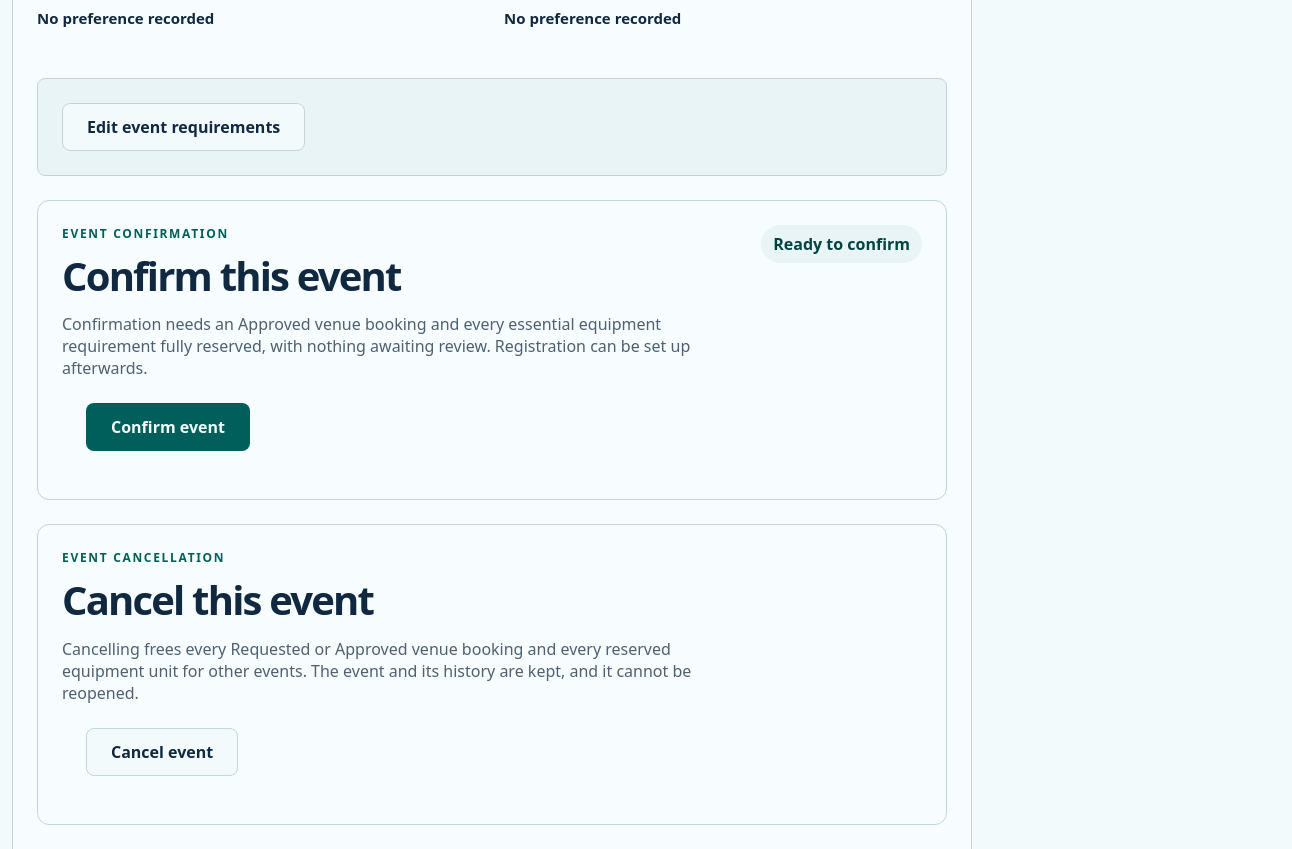
Scenario: [TC-SPL-85-24] confirms only after the second step and shows who confirmed it
(page scrolled)
Expected: the text "Ready to confirm" is shown, x1=761 y1=225 x2=922 y2=263
Click the button "Confirm event" at (168, 427), box x1=86 y1=403 x2=250 y2=451
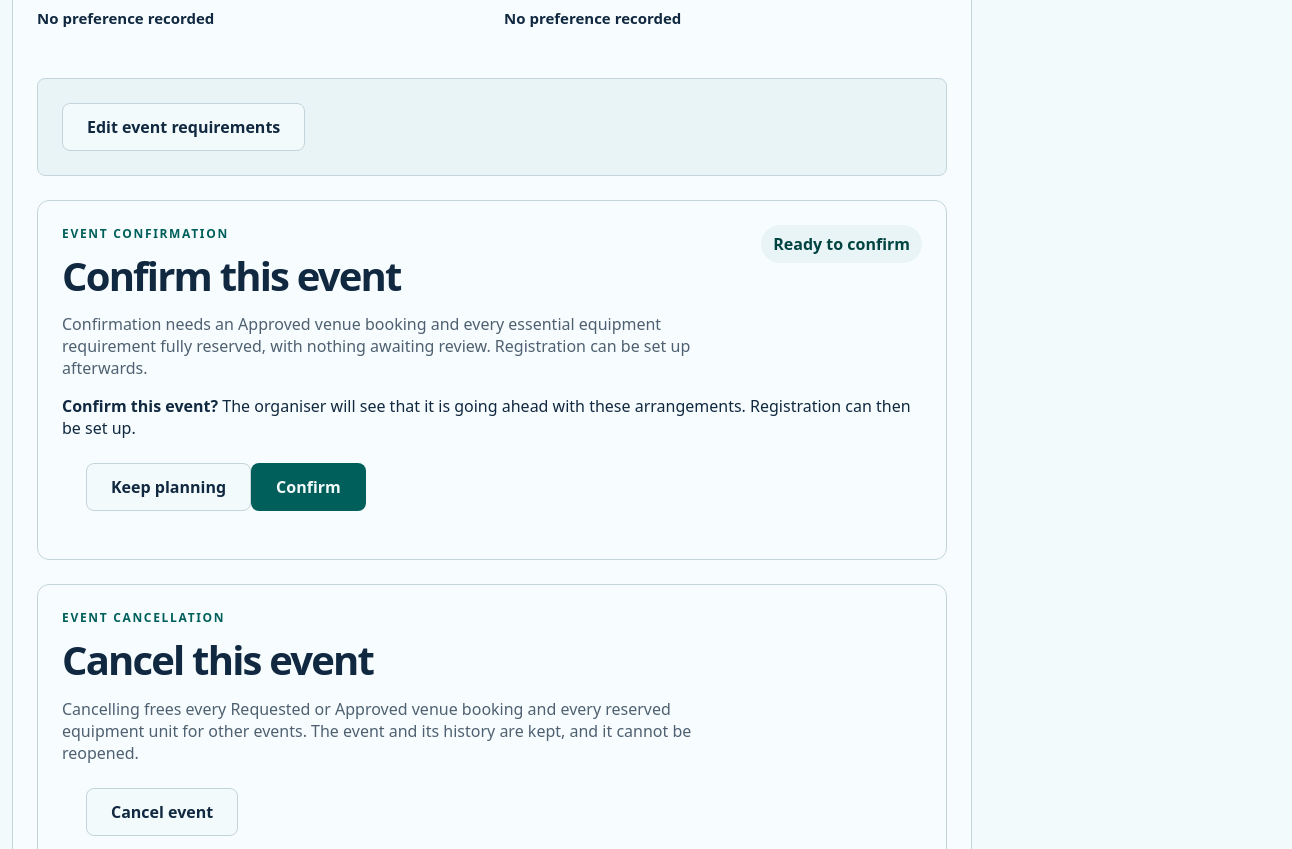
Click the button "Keep planning" at (168, 487), box x1=86 y1=463 x2=251 y2=511
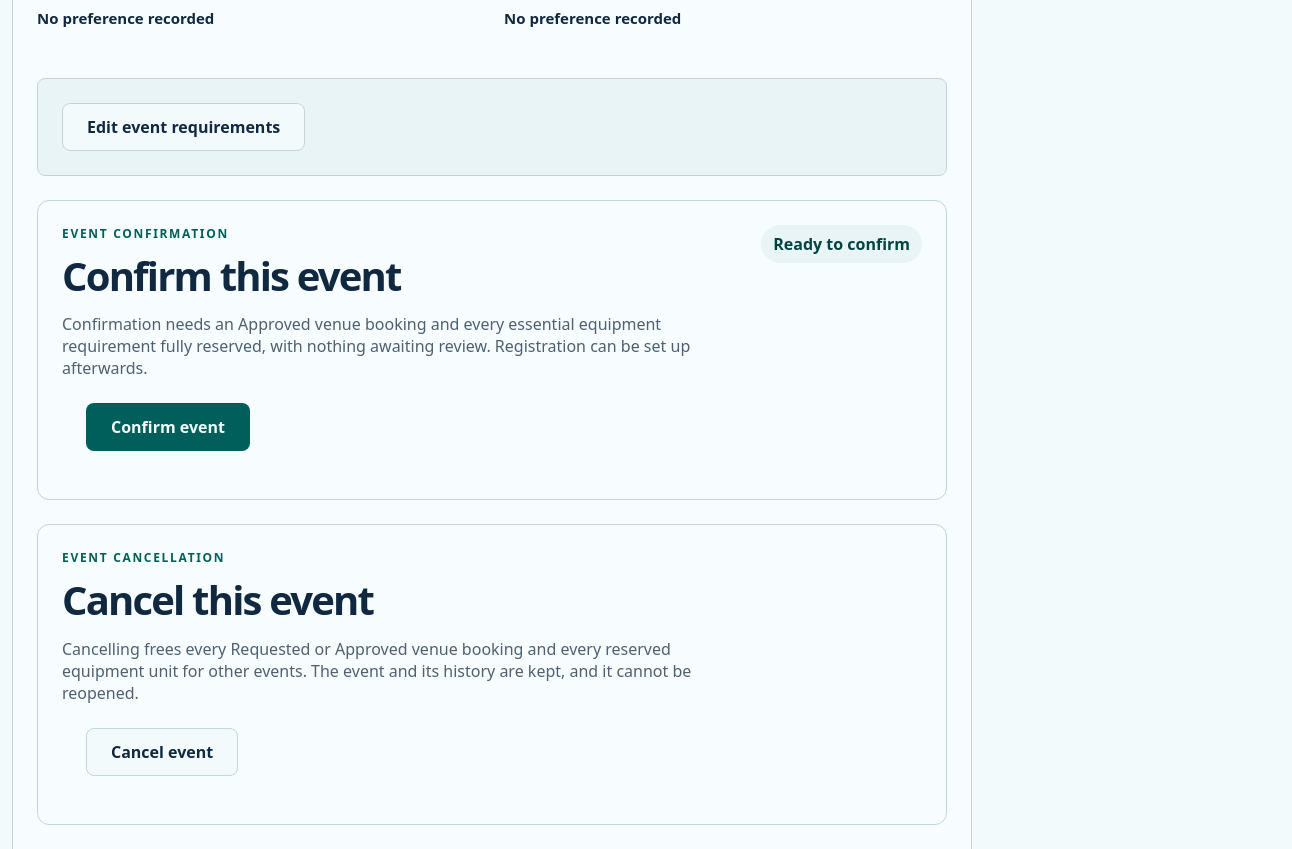
Click the button "Confirm event" at (168, 427), box x1=86 y1=403 x2=250 y2=451
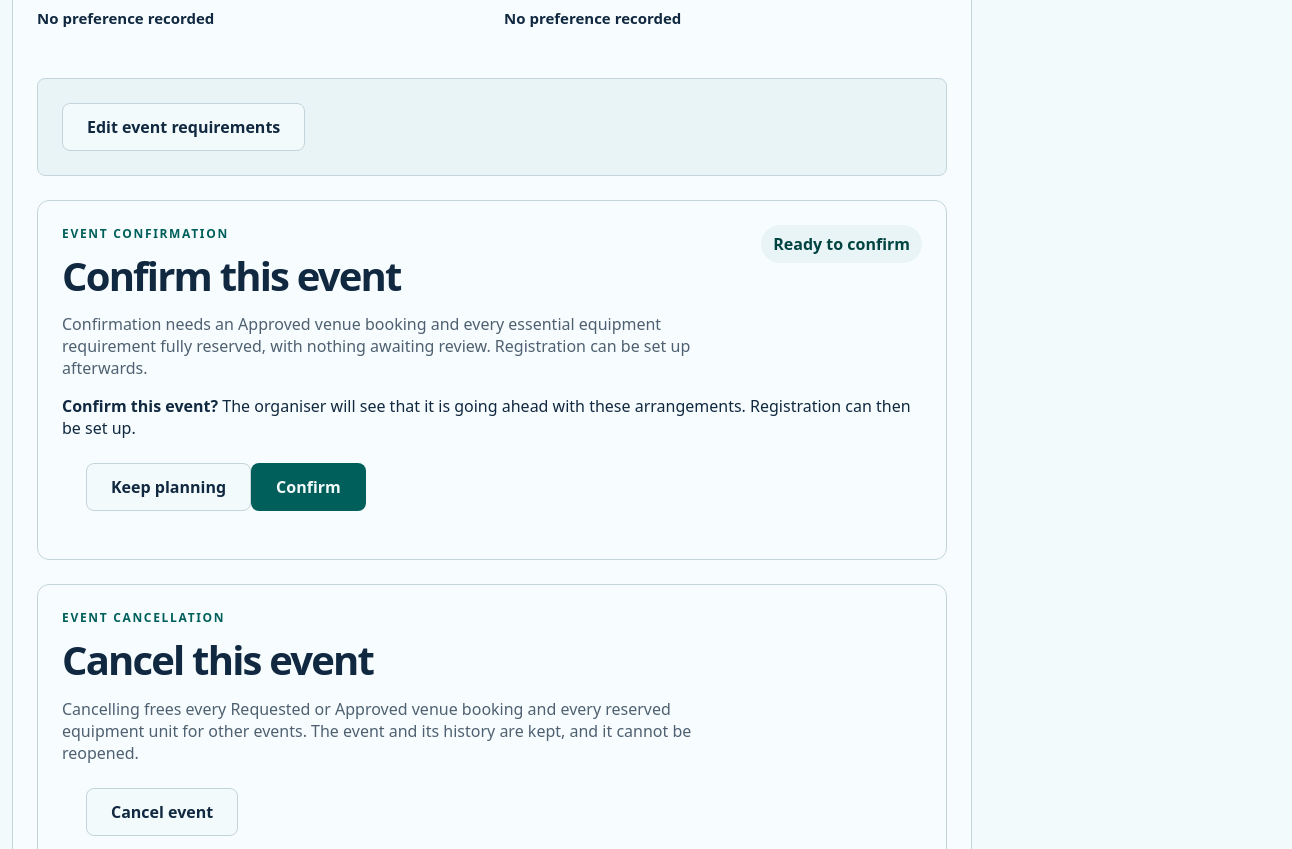
Click the button "Confirm" at (308, 487), box x1=251 y1=463 x2=366 y2=511
(page scrolled)
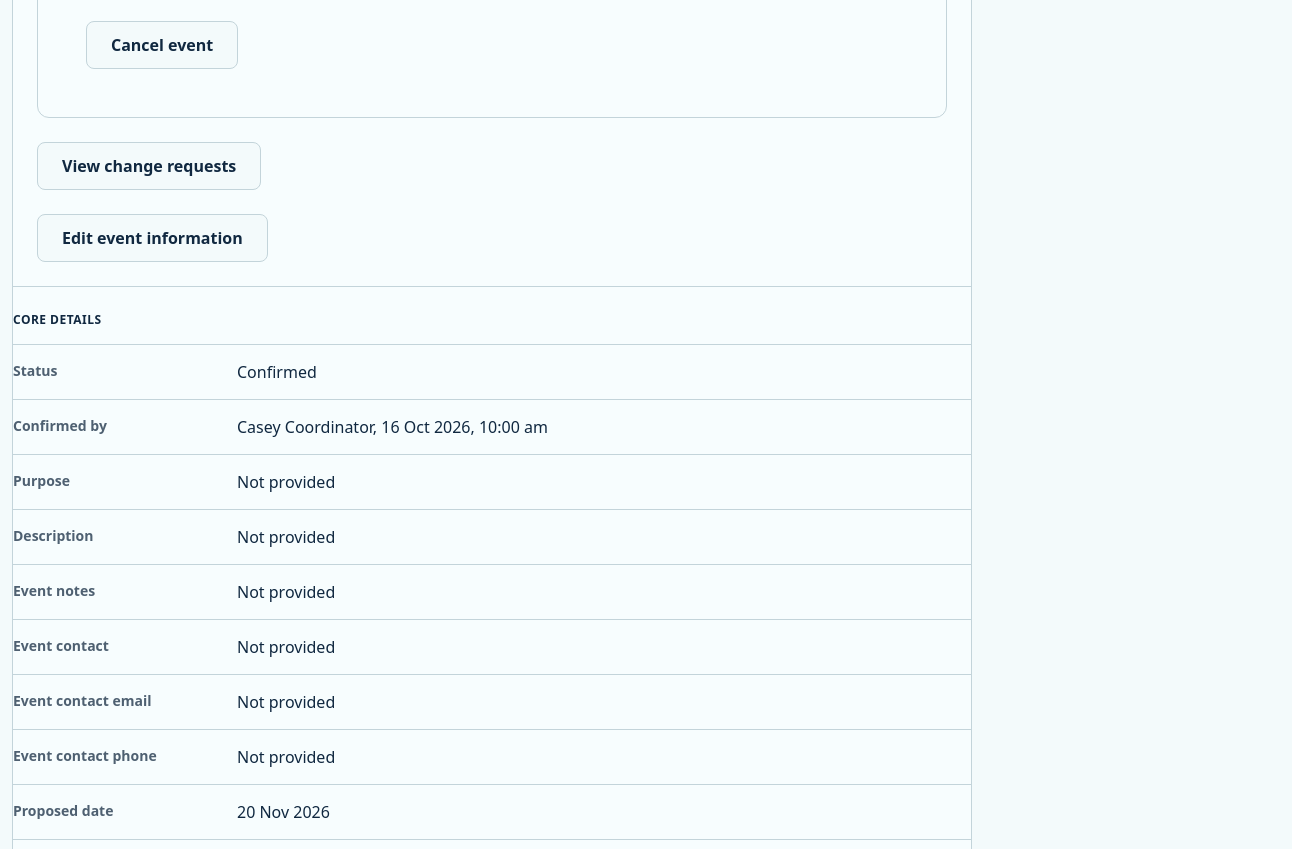
Expected: the row "Confirmed by" shows "Casey Coordinator, 16 Oct 2026", x1=237 y1=416 x2=548 y2=438
Expected: the heading "Confirm this event" is gone
